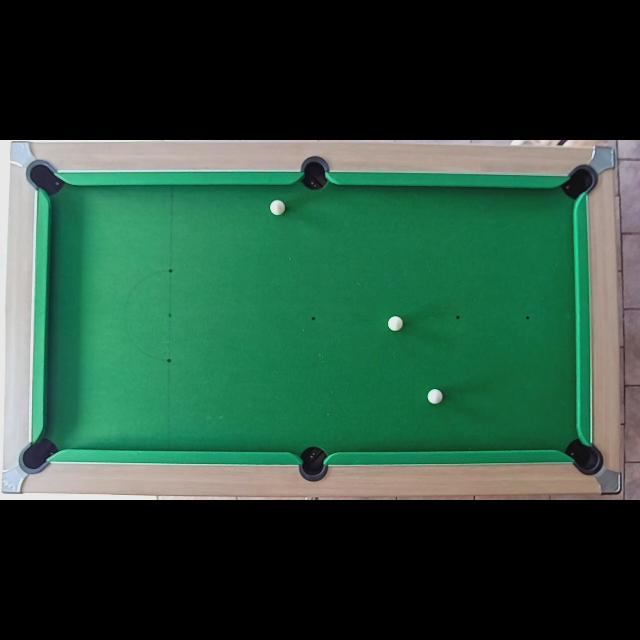Ball: (270, 200, 286, 216), (428, 388, 442, 404), (388, 317, 402, 331)
